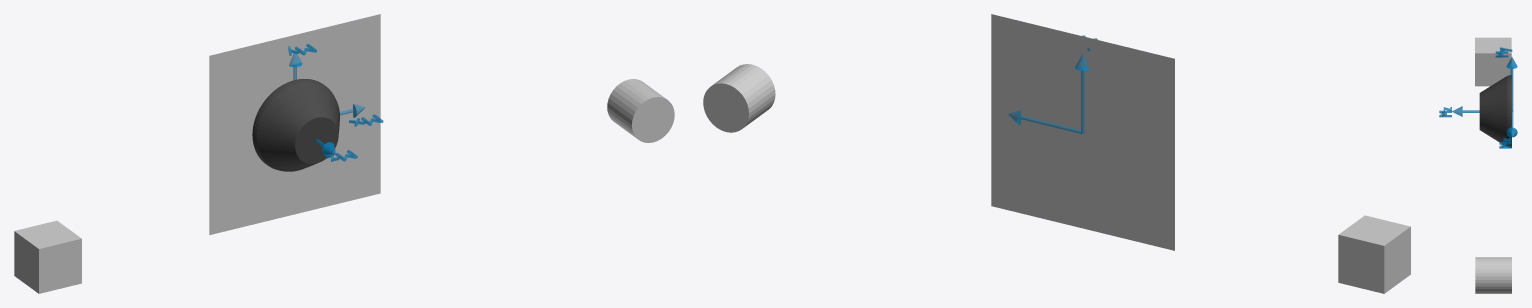
File: manta_test_object_with_plane.obj
The picture shows the model from 3 angles, left to right: view 1: azimuth 30°, elevation 25°; view 2: azimuth 150°, elevation 25°; view 3: azimuth 270°, elevation 25°; orthographic projection. The views are drawn at different scales.
Parts seen in each view (by area): view 1: Plane, Cylinder.001_Cylinder.006, Cube, Cylinder; view 2: Plane, Cube, Cylinder; view 3: Cylinder.001_Cylinder.006, Cube, Cylinder, Cone, Cone.002_Cone, Text, Text.002, Cone.001_Cone, Text.001.
Boxes of the visible parts, x1=… form: Plane: x1=209, y1=14, x2=380, y2=234; Cylinder.001_Cylinder.006: x1=252, y1=78, x2=339, y2=171; Cube: x1=14, y1=220, x2=81, y2=293; Cylinder: x1=607, y1=79, x2=674, y2=142; Plane: x1=991, y1=14, x2=1174, y2=250; Cube: x1=1338, y1=215, x2=1410, y2=293; Cylinder: x1=703, y1=64, x2=775, y2=132; Cylinder.001_Cylinder.006: x1=1479, y1=75, x2=1511, y2=147; Cube: x1=1475, y1=37, x2=1511, y2=86; Cylinder: x1=1475, y1=257, x2=1511, y2=293; Cone: x1=1506, y1=57, x2=1517, y2=111; Cone.002_Cone: x1=1506, y1=110, x2=1517, y2=137; Text: x1=1495, y1=47, x2=1512, y2=57; Text.002: x1=1499, y1=137, x2=1511, y2=148; Cone.001_Cone: x1=1452, y1=106, x2=1479, y2=116; Text.001: x1=1439, y1=107, x2=1451, y2=117.
Size of the model in its own units: 14.84 by 4 by 2.13.
